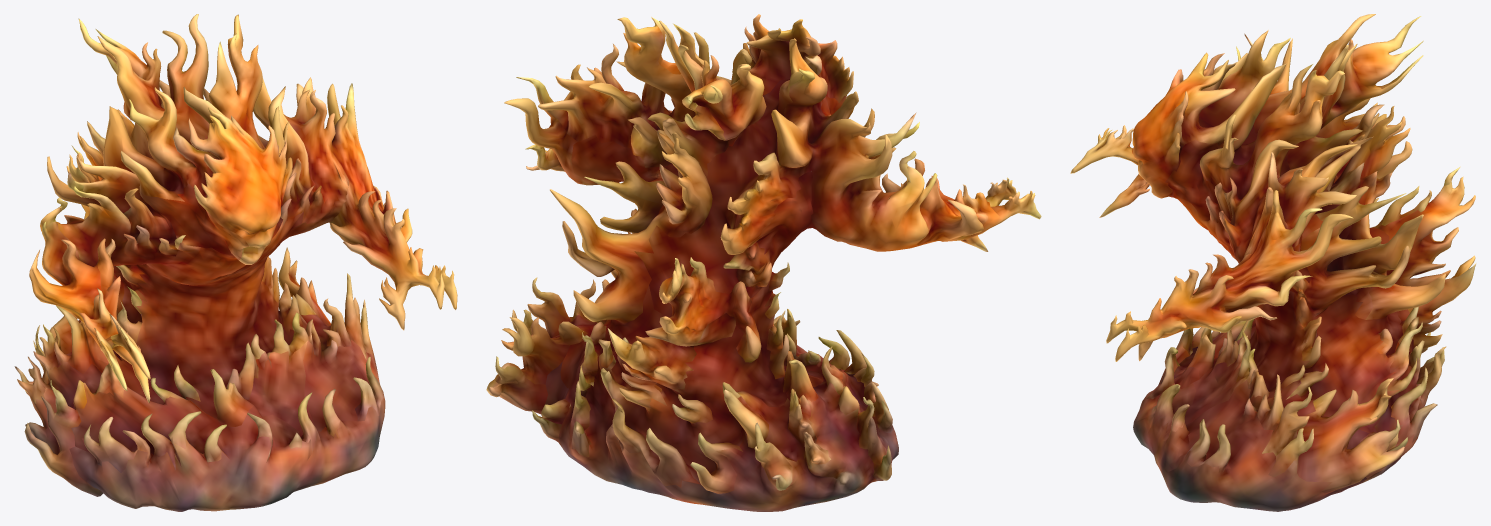
The model's file is MZ4250 - Fire Elemental_2025.glb.
3 views of the same model, side by side, from view 1: azimuth 30°, elevation 25°; view 2: azimuth 150°, elevation 25°; view 3: azimuth 270°, elevation 25° (orthographic). The views are drawn at different scales.
Parts seen in each view (by area): view 1: FireElemental2025.001; view 2: FireElemental2025.001; view 3: FireElemental2025.001.
Part boxes in pixels (x1,y1,x2,y2): FireElemental2025.001: (14, 14, 457, 511); FireElemental2025.001: (486, 14, 1041, 511); FireElemental2025.001: (1070, 14, 1476, 511).
Size of the model in its own units: 150 by 155 by 137.
Materials: 1 (1 with a texture image).
